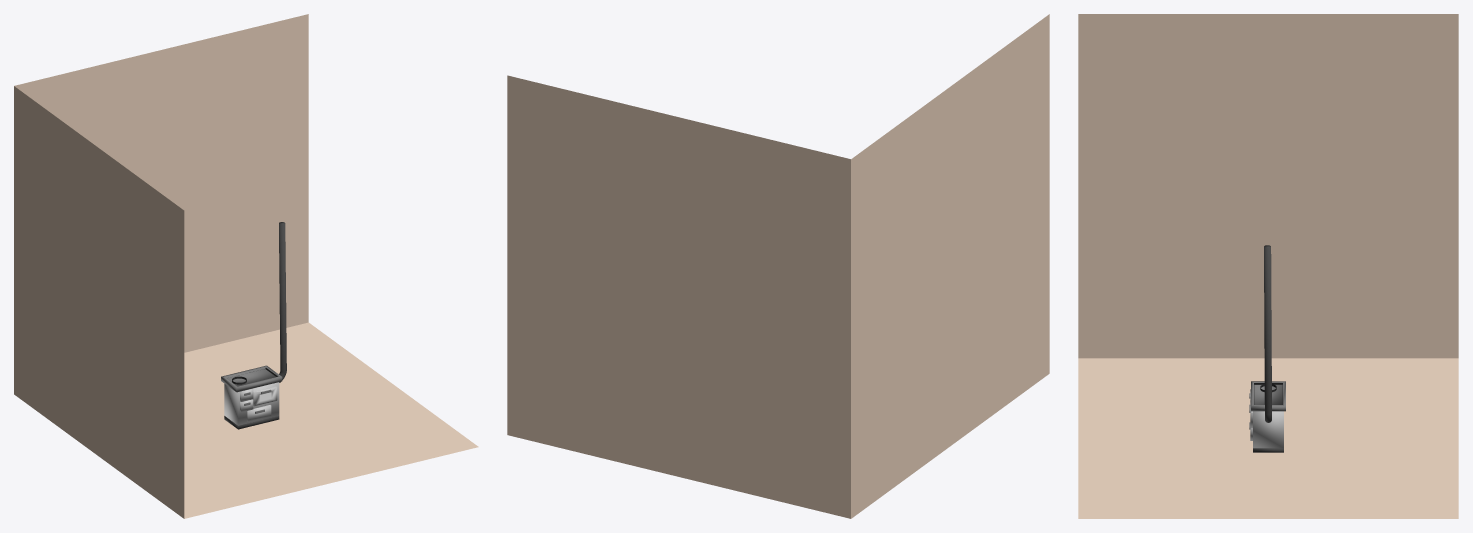
File: smederevac.gltf
3 renders of one model, left to right at view 1: azimuth 30°, elevation 25°; view 2: azimuth 150°, elevation 25°; view 3: azimuth 270°, elevation 25°, orthographic. The views are drawn at different scales.
Visible parts, largest first — view 1: Cube.005, Cylinder.004, Base, Base.002; view 2: Cube.005; view 3: Cube.005, Cylinder.004, Base, Base.002.
Part boxes in pixels (x1=…): Cube.005: x1=14, y1=14, x2=478, y2=518; Cylinder.004: x1=279, y1=222, x2=286, y2=382; Base: x1=224, y1=382, x2=279, y2=425; Base.002: x1=221, y1=365, x2=282, y2=392; Cube.005: x1=507, y1=14, x2=1049, y2=518; Cube.005: x1=1078, y1=14, x2=1458, y2=518; Cylinder.004: x1=1264, y1=245, x2=1271, y2=422; Base: x1=1253, y1=411, x2=1283, y2=448; Base.002: x1=1251, y1=381, x2=1285, y2=411.
Size of the model in its own units: 19.16 by 19.18 by 19.16.
